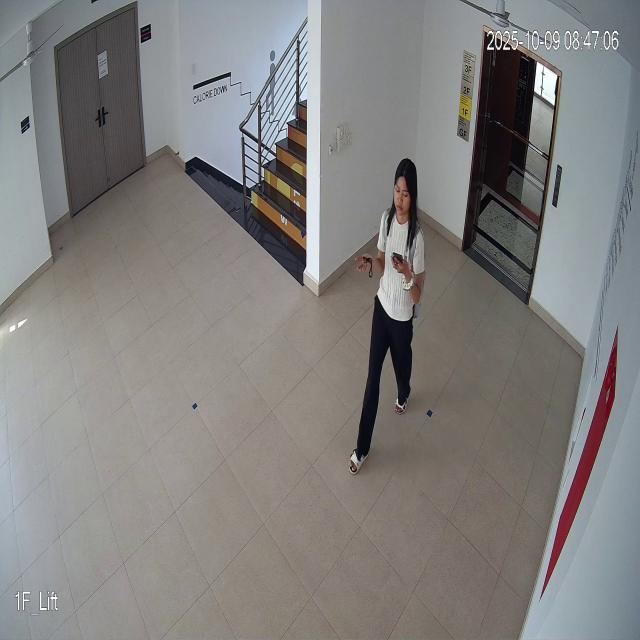face: (390, 154, 424, 222)
